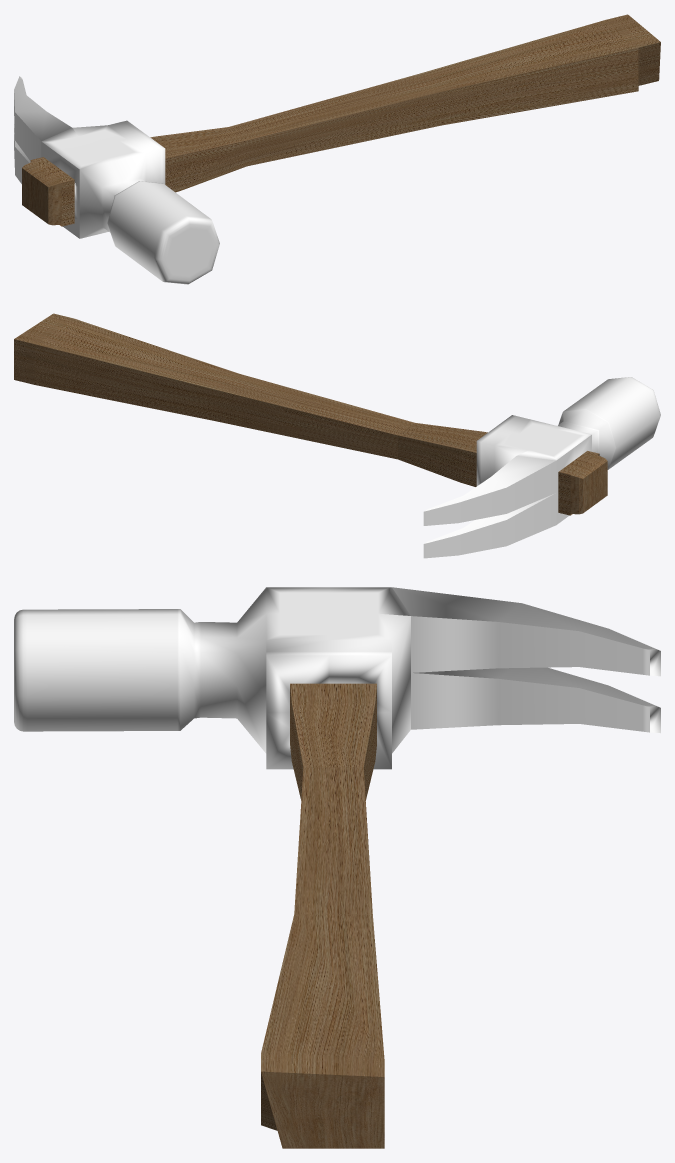
3 views of the same model, one above another, from view 1: azimuth 30°, elevation 25°; view 2: azimuth 150°, elevation 25°; view 3: azimuth 270°, elevation 25° (orthographic). The views are drawn at different scales.
Visible parts, largest first — view 1: 立方体, Cube; view 2: 立方体, Cube; view 3: Cube, 立方体.
Part boxes in pixels (x1,y1,x2,y2): 立方体: (22, 14, 660, 226); Cube: (14, 76, 219, 284); 立方体: (14, 313, 607, 515); Cube: (423, 377, 660, 558); Cube: (14, 587, 660, 769); 立方体: (261, 683, 384, 1148).
Size of what is drawn, in the model's own units: 18.34 by 2.01 by 10.31.
2 materials, 1 textured.
